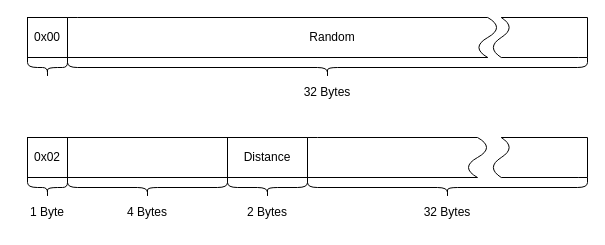
Some shapes in this 605 by 245 pixel diagram are drawn without their labels. The shapes that lost their labels are listed below. From the top down, each one's centre as x and y in pixels, then its label:
At point 147,157: "Counter".
At point 397,157: "HMAC".
